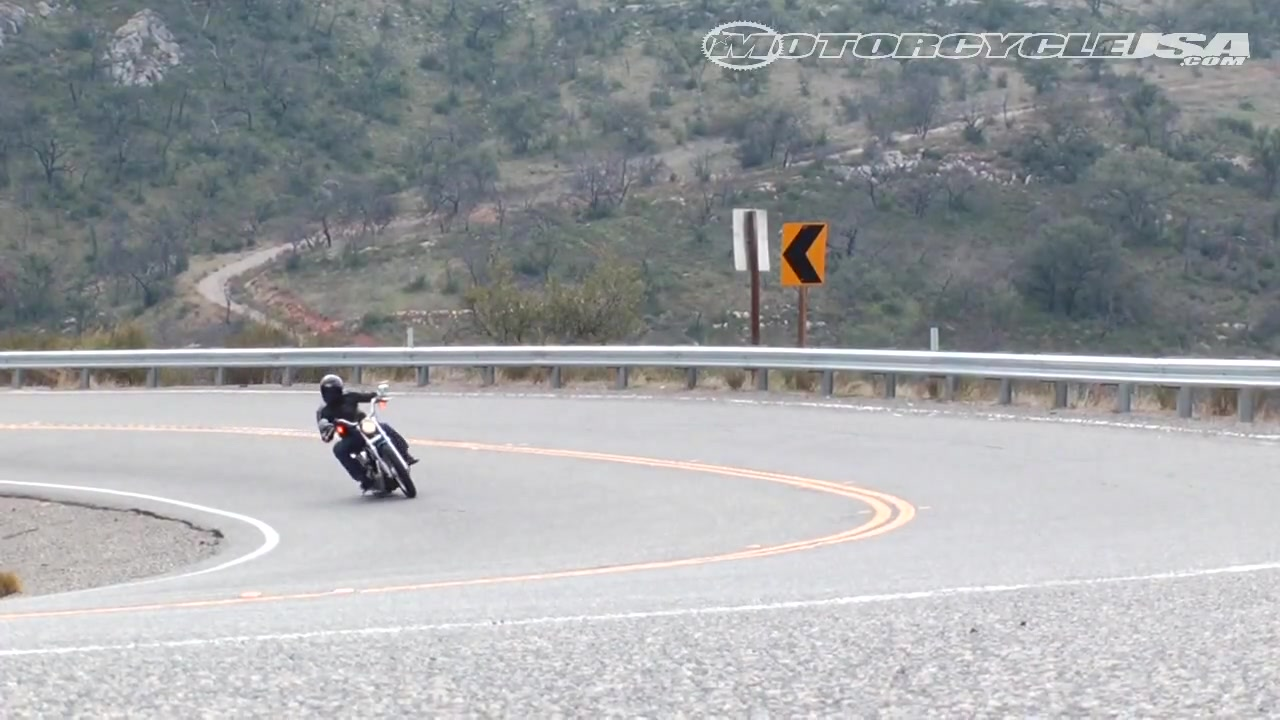motorbike: (322, 382, 421, 506)
